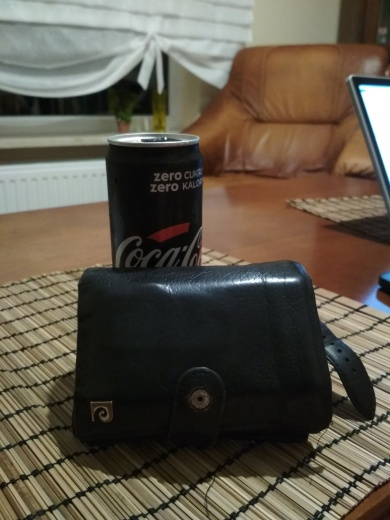colazero: (99, 127, 210, 373)
